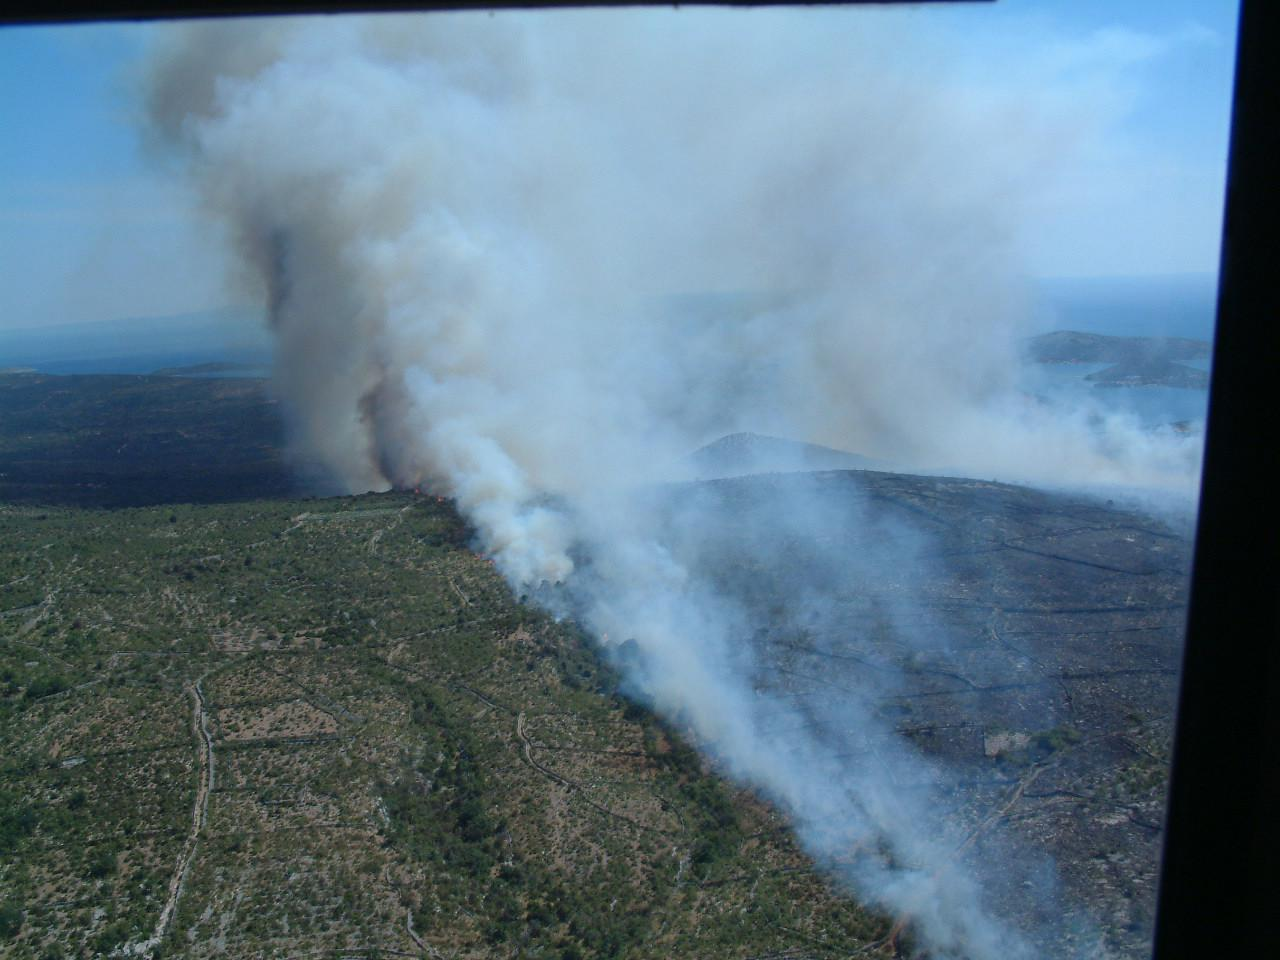Smoke: (144, 22, 1205, 498), (461, 504, 1058, 950)
